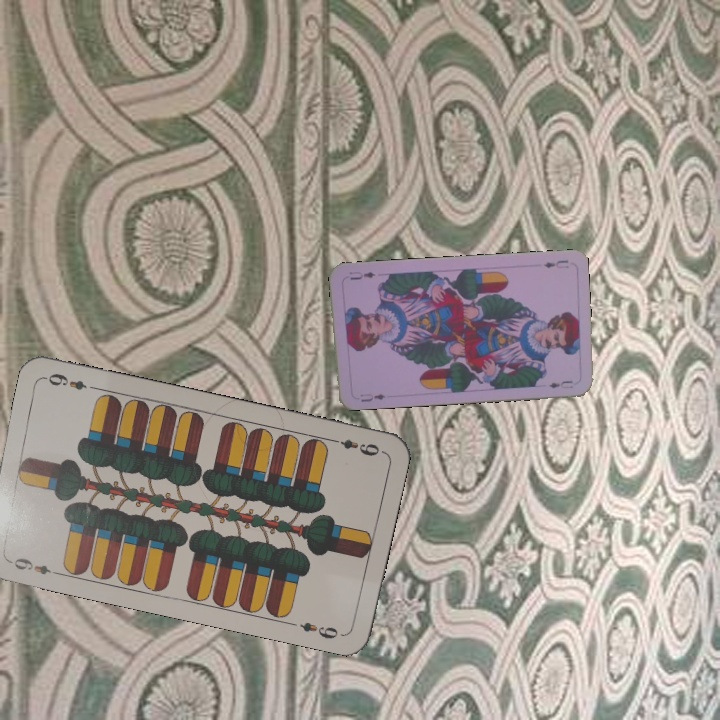E9: (3, 553, 61, 578), (326, 434, 382, 459)
EU: (357, 389, 388, 405), (540, 256, 571, 271)
